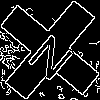N: (25, 25, 83, 84)
